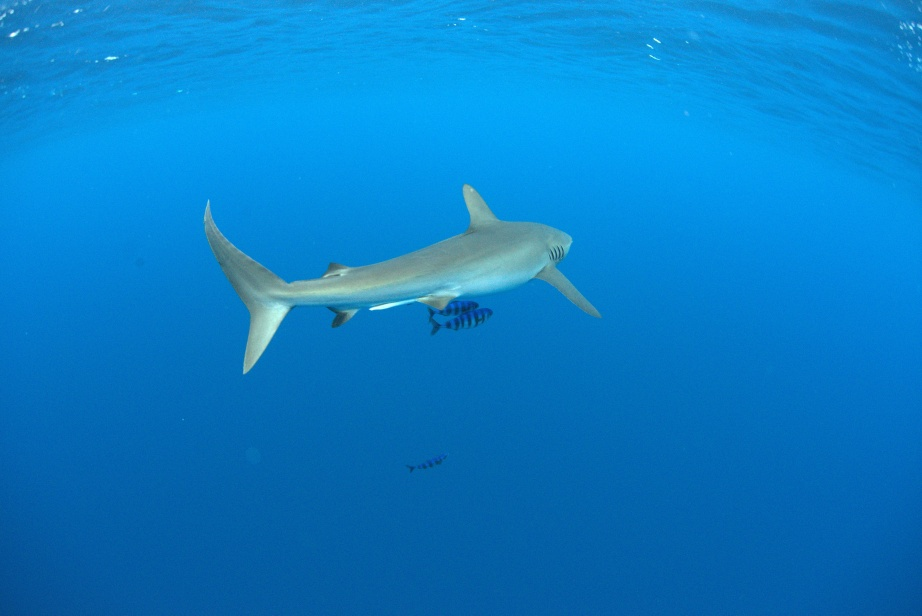Sedoso: (181, 178, 635, 388)
